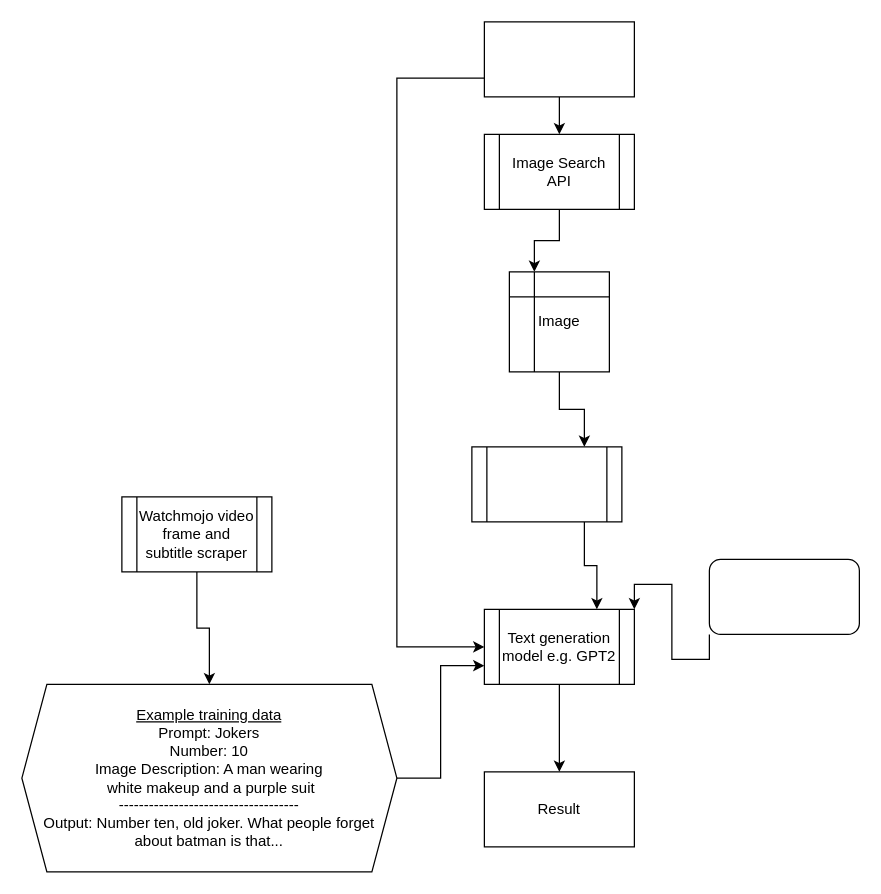
Some shapes in this 881 by 894 pixel diagram are drawn without their labels. Here are the shapes that lost their labels. From the top down, the centre of each, then its label:
At [558,59]: "Input Prompt Phrase".
At [546,484]: "Image subject detection model".
At [783,596]: "Numbers from 1 to 10".
